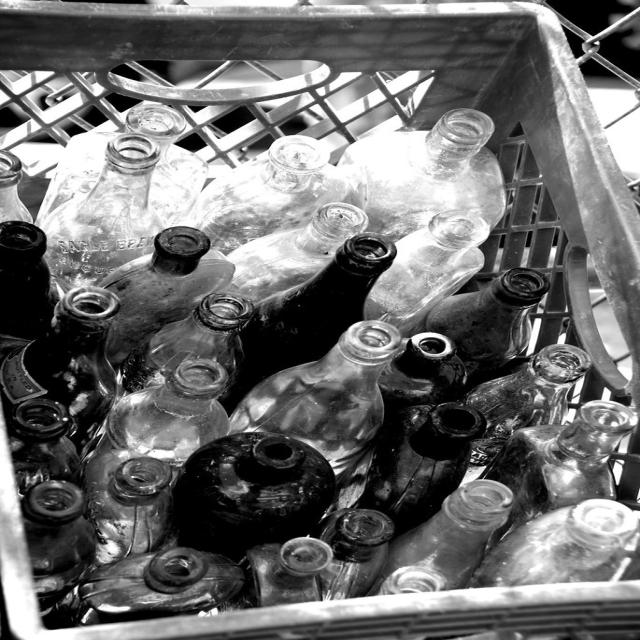Glass: (0, 35, 640, 619)
